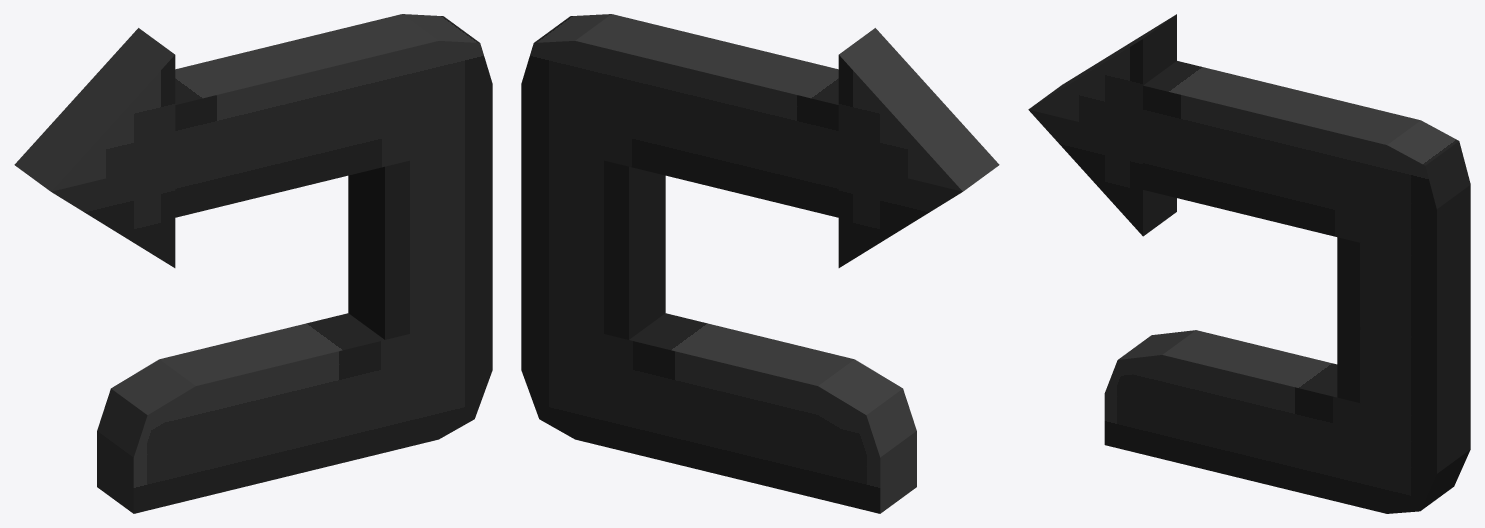
The model's file is return.gltf.
The picture shows the model from 3 angles, left to right: view 1: azimuth 30°, elevation 25°; view 2: azimuth 150°, elevation 25°; view 3: azimuth 330°, elevation 25°; orthographic projection. The views are drawn at different scales.
Visible parts, largest first — view 1: cuboid; view 2: cuboid; view 3: cuboid.
Boxes of the visible parts, box(x1,y1,x2,y2) form: cuboid: box(14, 14, 492, 513); cuboid: box(521, 14, 999, 513); cuboid: box(1028, 14, 1470, 513).
Bounding box in the file's own units: 1 × 0.9719 × 0.1437.
Materials: 1 (1 with a texture image).
